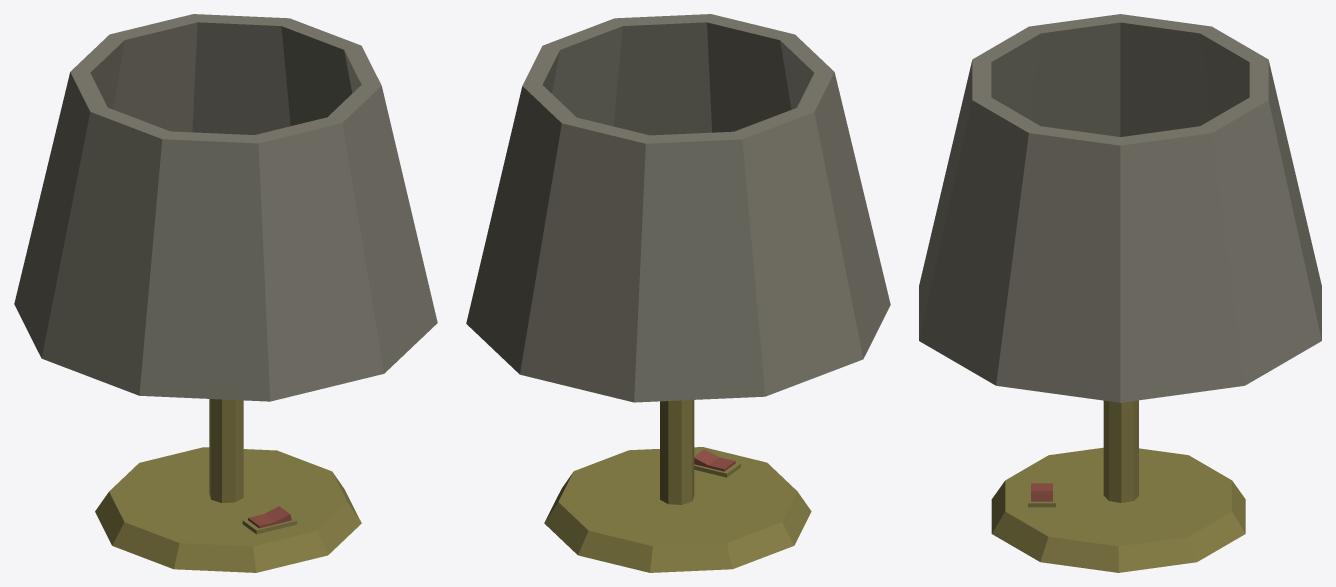
Rendered from SM_Lamp.fbx.
3 views of the same model, side by side, from view 1: azimuth 30°, elevation 25°; view 2: azimuth 150°, elevation 25°; view 3: azimuth 270°, elevation 25° (orthographic).
Parts seen in each view (by area): view 1: pCylinder5, pCylinder1, pCylinder2; view 2: pCylinder5, pCylinder1, pCylinder2; view 3: pCylinder5, pCylinder1, pCylinder2.
Boxes of the visible parts, bbox=[...] form: pCylinder5: bbox=[14, 14, 437, 401]; pCylinder1: bbox=[95, 447, 361, 572]; pCylinder2: bbox=[209, 399, 243, 502]; pCylinder5: bbox=[466, 14, 890, 402]; pCylinder1: bbox=[544, 447, 811, 572]; pCylinder2: bbox=[660, 400, 694, 504]; pCylinder5: bbox=[919, 14, 1321, 402]; pCylinder1: bbox=[991, 447, 1245, 572]; pCylinder2: bbox=[1103, 400, 1138, 502].
Size of the model in its own units: 11.71 by 13.31 by 11.14.
